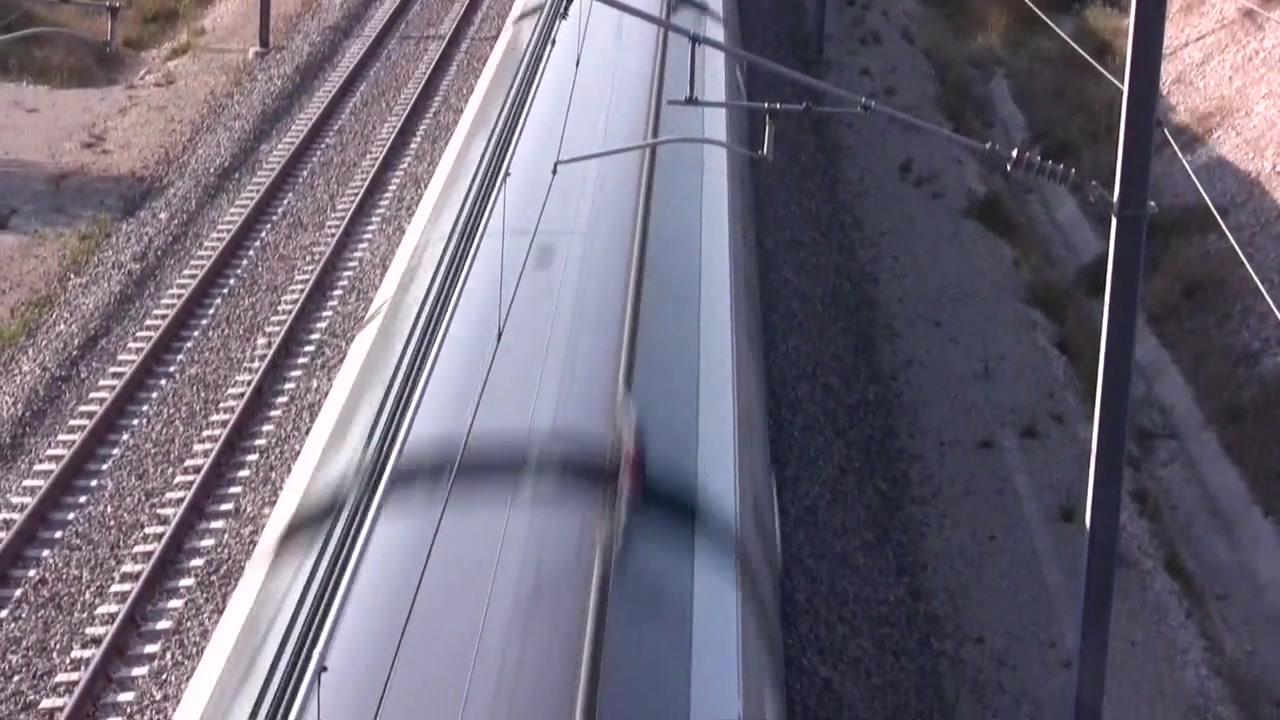train: (165, 1, 801, 720)
